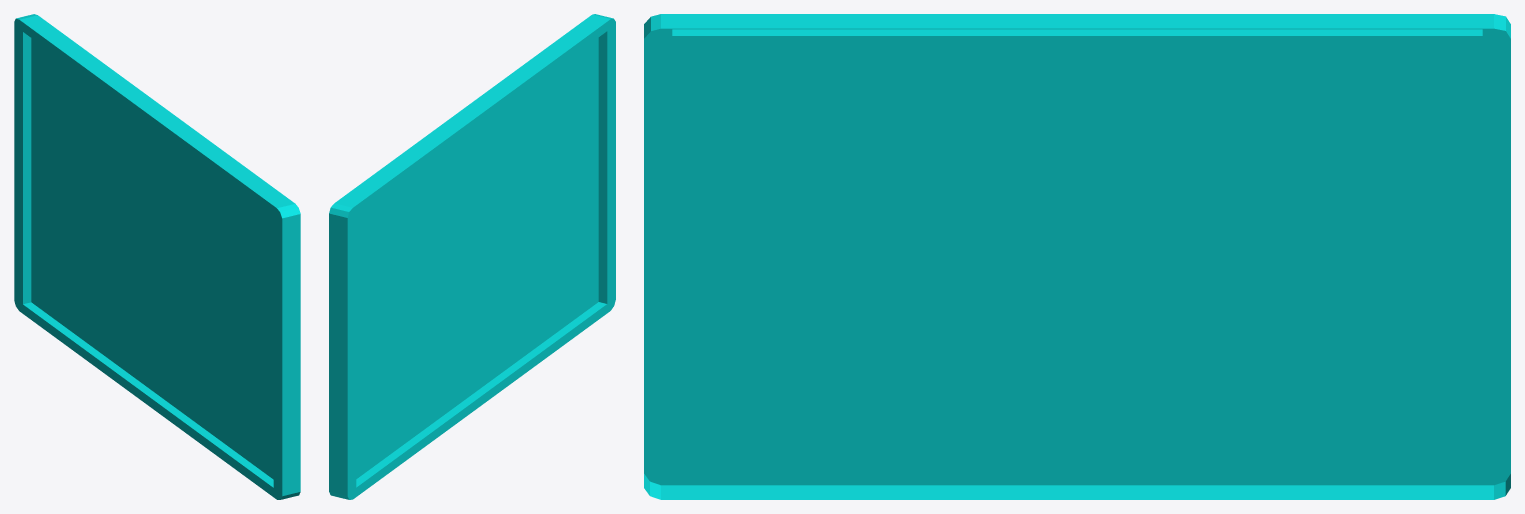
File: HangingScreen.fbx
The picture shows the model from 3 angles, left to right: view 1: azimuth 30°, elevation 25°; view 2: azimuth 150°, elevation 25°; view 3: azimuth 270°, elevation 25°; orthographic projection. The views are drawn at different scales.
Parts seen in each view (by area): view 1: Screen; view 2: Screen; view 3: Screen.
Boxes of the visible parts, left/top/right/bottom form: Screen: left=14, top=14, right=300, bottom=499; Screen: left=329, top=14, right=615, bottom=499; Screen: left=644, top=14, right=1510, bottom=499.
Size of the model in its own units: 2 by 50 by 30.
